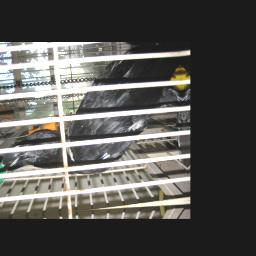Crow: (0, 43, 187, 183)
